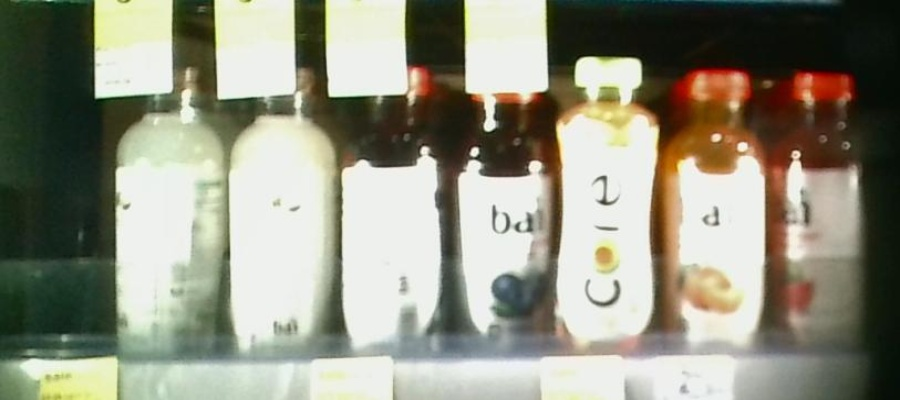bottle: (227, 64, 338, 363), (114, 65, 221, 364), (339, 60, 444, 359), (444, 51, 551, 340), (554, 54, 660, 343), (665, 56, 767, 349), (769, 62, 870, 351)
